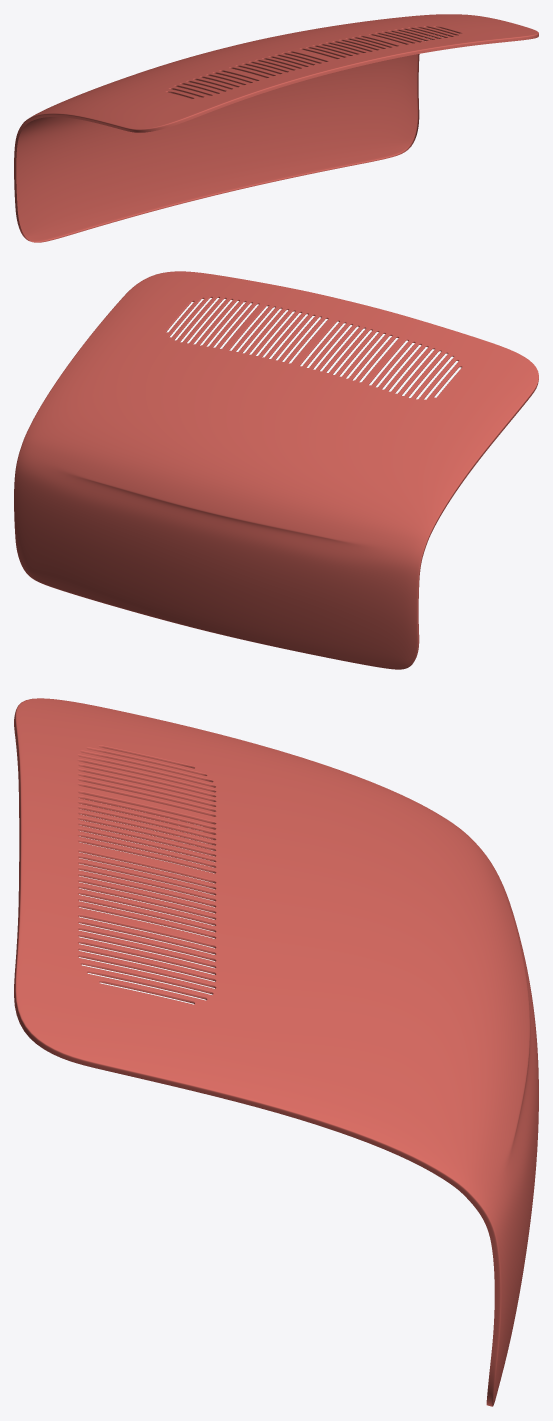
Rendered from body_02.fbx.
3 views of the same model, one above another, from view 1: azimuth 30°, elevation 25°; view 2: azimuth 150°, elevation 25°; view 3: azimuth 270°, elevation 25° (orthographic). The views are drawn at different scales.
Visible parts, largest first — view 1: body_02; view 2: body_02; view 3: body_02.
Boxes of the visible parts, bbox=[...] form: body_02: bbox=[14, 14, 538, 242]; body_02: bbox=[14, 271, 538, 669]; body_02: bbox=[14, 698, 538, 1406].
Bounding box in the file's own units: 252 × 136 × 156.
